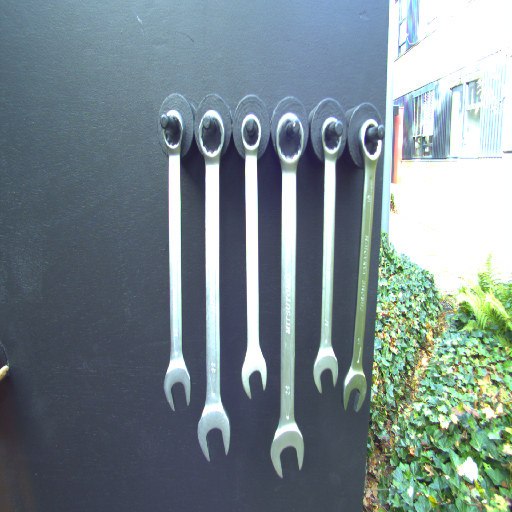bottom: (266, 421, 306, 478), (194, 404, 232, 462), (159, 358, 193, 412), (241, 348, 269, 402), (311, 343, 339, 394), (342, 369, 365, 415)
top: (275, 111, 306, 169), (196, 109, 228, 161), (159, 107, 188, 153), (358, 117, 383, 170), (318, 116, 344, 163), (237, 112, 264, 156)
